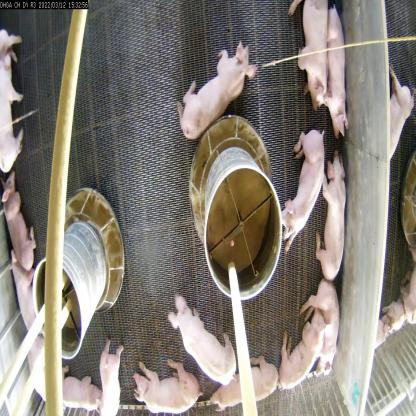Pig: (274, 115, 329, 242), (171, 302, 242, 393), (181, 50, 252, 132), (316, 6, 354, 136), (292, 0, 335, 107), (303, 283, 347, 376), (0, 177, 42, 273), (0, 44, 31, 172), (87, 336, 137, 415), (216, 359, 285, 415), (141, 356, 204, 416), (323, 145, 349, 282), (281, 318, 321, 392), (49, 368, 106, 415)
